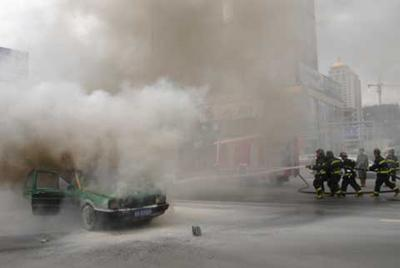smoke: (5, 12, 287, 167)
